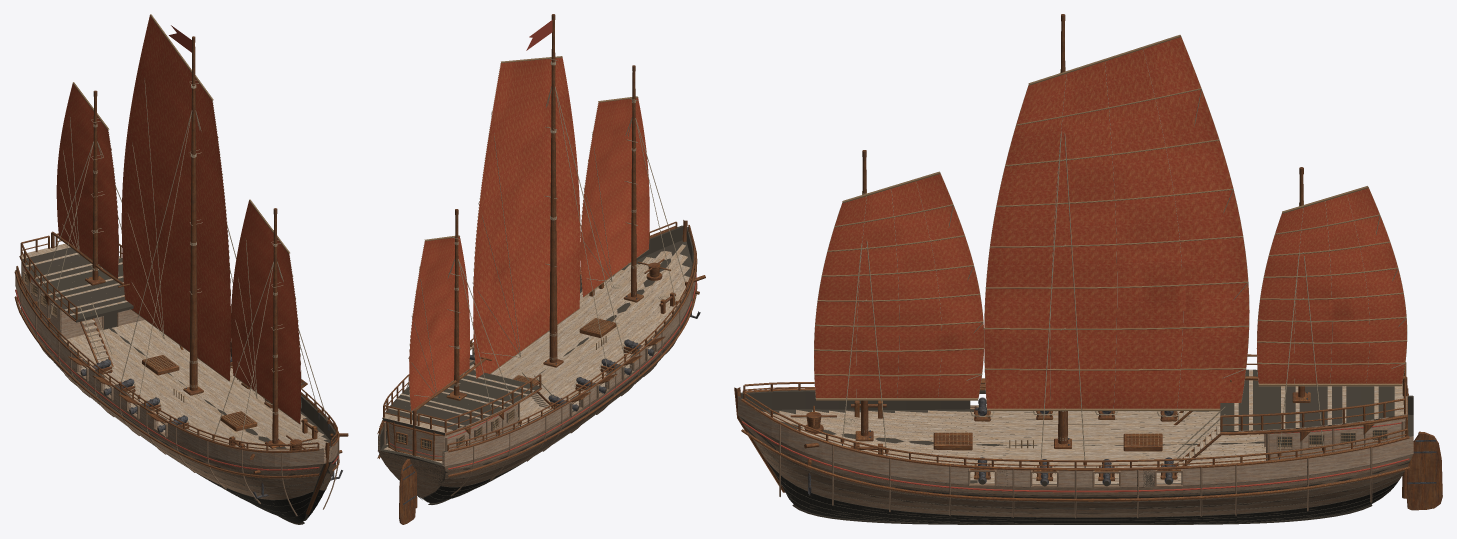
The model's file is fuchuan-lod1.glb.
The picture shows the model from 3 angles, left to right: view 1: azimuth 30°, elevation 25°; view 2: azimuth 150°, elevation 25°; view 3: azimuth 270°, elevation 25°; orthographic projection. The views are drawn at different scales.
Visible parts, largest first — view 1: sail_1, hull, deck, sail_0, sail_2, shadow_deck, deck_fittings, bulwark_rails, mast_timber_1, shadow_hull, sterncastle, mast_timber_0 (+6 smaller); view 2: sail_1, deck, hull, sail_0, sail_2, shadow_deck, deck_fittings, shadow_hull, bulwark_rails, mast_timber_1, mast_timber_0, stern_transom (+7 smaller); view 3: sail_1, hull, sail_0, sail_2, deck, shadow_hull, shadow_deck, bulwark_rails, deck_fittings, rudder_blade, sterncastle, rigging_1.
Part boxes in pixels (x1,y1,x2,y2): sail_1: [121, 14, 231, 381]; hull: [14, 270, 339, 524]; deck: [19, 243, 329, 450]; sail_0: [231, 199, 301, 424]; sail_2: [56, 82, 118, 278]; shadow_deck: [22, 247, 133, 322]; deck_fittings: [21, 262, 348, 498]; bulwark_rails: [16, 233, 337, 450]; mast_timber_1: [189, 43, 197, 390]; shadow_hull: [15, 270, 335, 521]; sterncastle: [23, 266, 144, 339]; mast_timber_0: [272, 214, 278, 443]; sail_1: [472, 56, 580, 378]; deck: [382, 244, 689, 463]; hull: [377, 220, 697, 504]; sail_0: [580, 96, 649, 297]; sail_2: [408, 235, 469, 411]; shadow_deck: [383, 369, 540, 435]; deck_fittings: [383, 259, 705, 460]; shadow_hull: [378, 225, 693, 502]; bulwark_rails: [379, 221, 695, 450]; mast_timber_1: [549, 20, 557, 362]; mast_timber_0: [631, 71, 636, 297]; stern_transom: [388, 423, 444, 459]; sail_1: [984, 35, 1249, 411]; hull: [734, 387, 1413, 524]; sail_0: [814, 171, 984, 400]; sail_2: [1256, 186, 1407, 386]; deck: [763, 369, 1407, 483]; shadow_hull: [738, 390, 1413, 523]; shadow_deck: [1220, 369, 1394, 432]; bulwark_rails: [743, 354, 1408, 467]; deck_fittings: [790, 385, 1407, 494]; rudder_blade: [1406, 431, 1442, 510]; sterncastle: [1266, 418, 1404, 460]; rigging_1: [1039, 133, 1086, 473].
Size of the model in its own units: 10.4 by 26.66 by 33.57.
13 materials, 8 textured.
